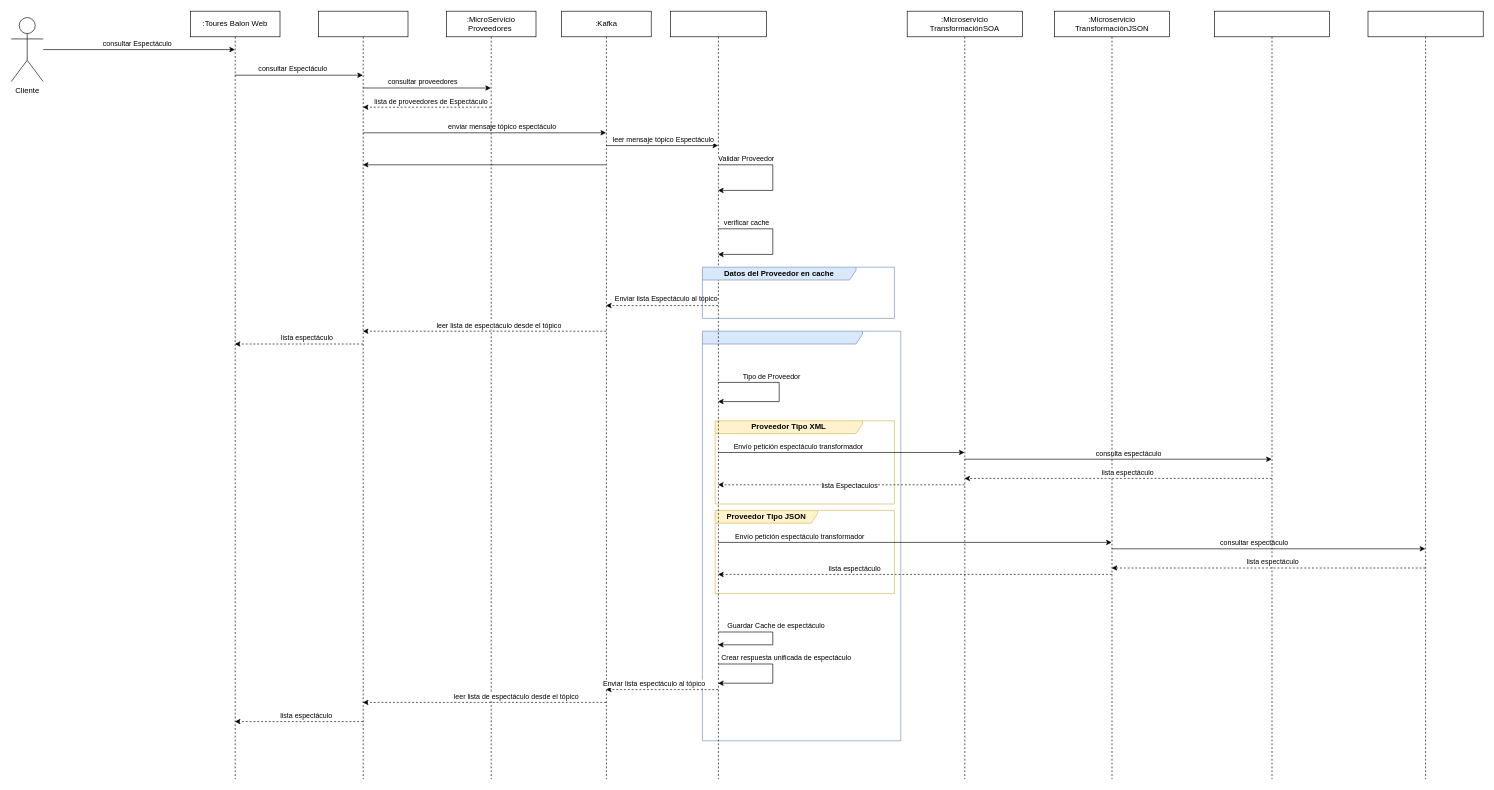
The diagram is 1494 pixels wide and 790 high, and some of its shapes have lost their labels. Here are the shapes that lost their labels. From the top down, the box of each, then its label:
(318, 11, 408, 779): :MicroServicio Integrador
(670, 11, 766, 779): :Microservicio Espectáculo
(1214, 11, 1330, 779): :Proveedores Espectáculo SOA
(1367, 11, 1483, 779): :Proveedores Espectáculo JSON
(702, 331, 901, 741): Datos del Proveedor sin cache
